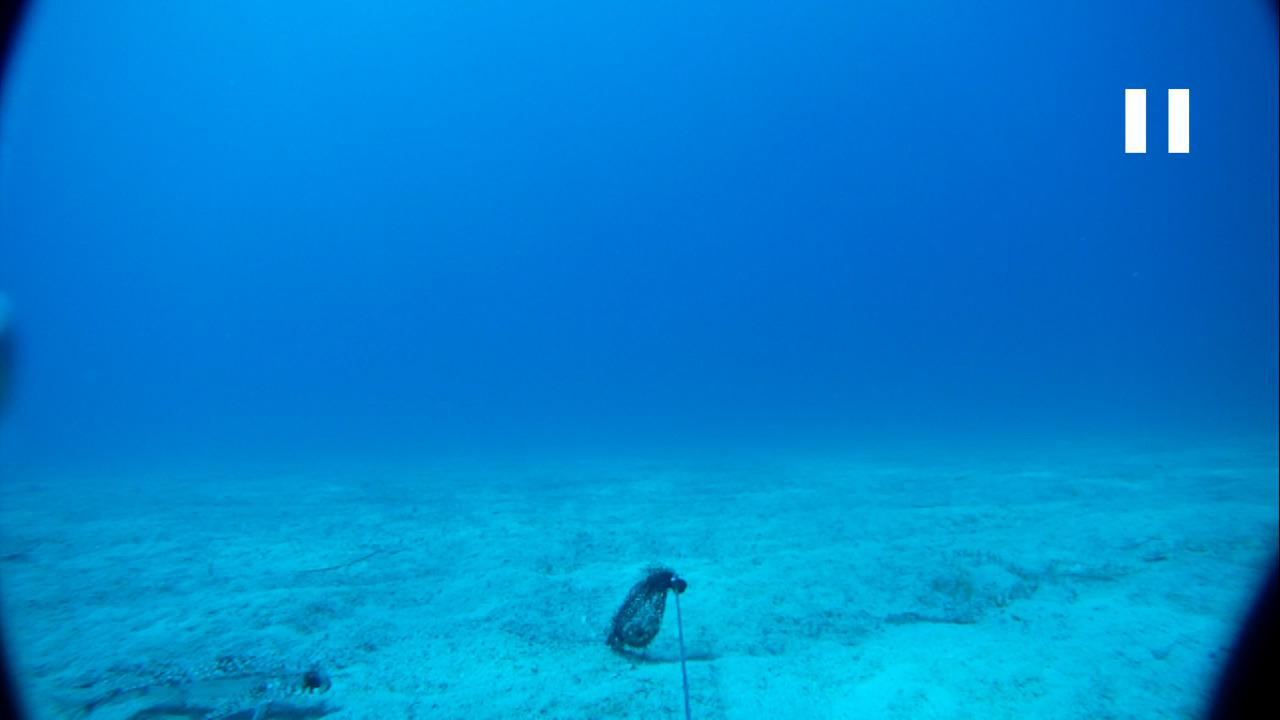dactylopterus: (57, 641, 344, 719)
